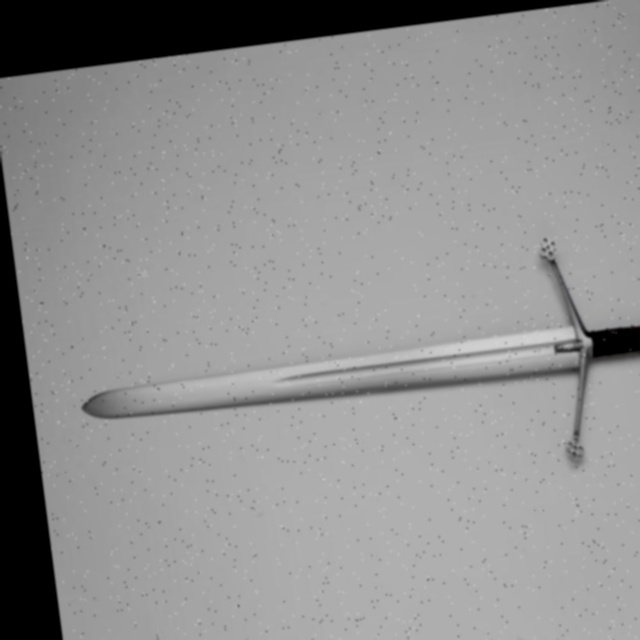Sharp-Object: (83, 297, 640, 454)
